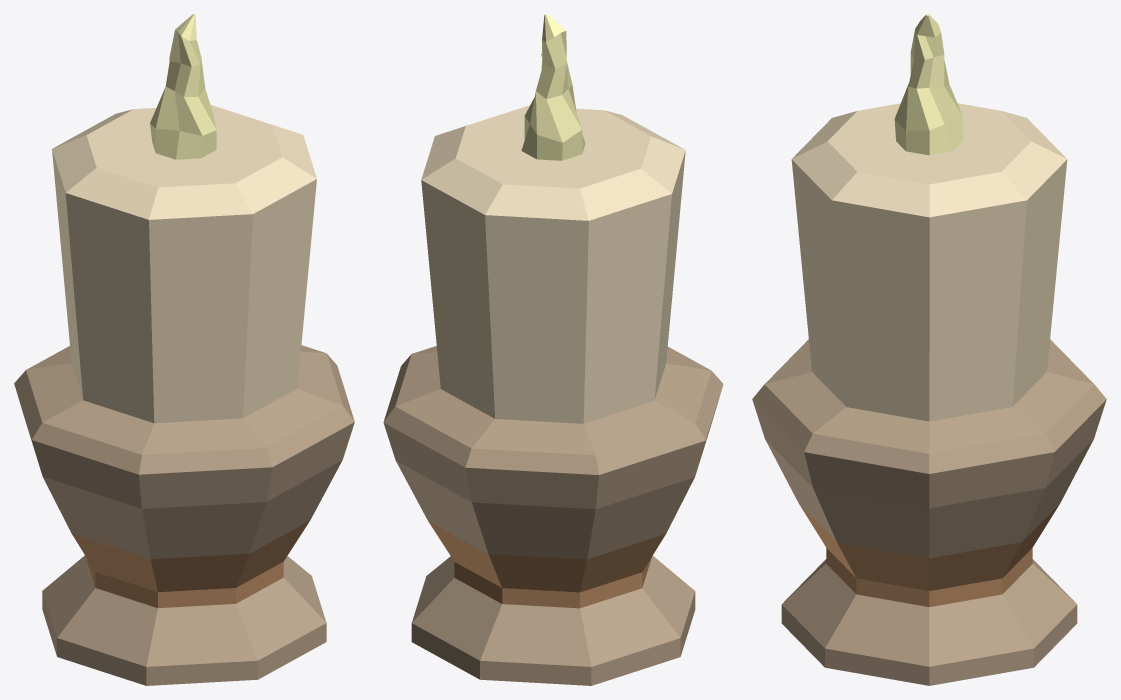
The model's file is Candle.fbx.
The picture shows the model from 3 angles, left to right: view 1: azimuth 30°, elevation 25°; view 2: azimuth 150°, elevation 25°; view 3: azimuth 270°, elevation 25°; orthographic projection.
Visible parts, largest first — view 1: Cylinder.001; view 2: Cylinder.001; view 3: Cylinder.001.
Part boxes in pixels (left/top/right/bottom): Cylinder.001: left=14, top=14, right=354, bottom=685; Cylinder.001: left=383, top=14, right=723, bottom=685; Cylinder.001: left=752, top=14, right=1106, bottom=685.
Size of the model in its own units: 240 by 458 by 240.
